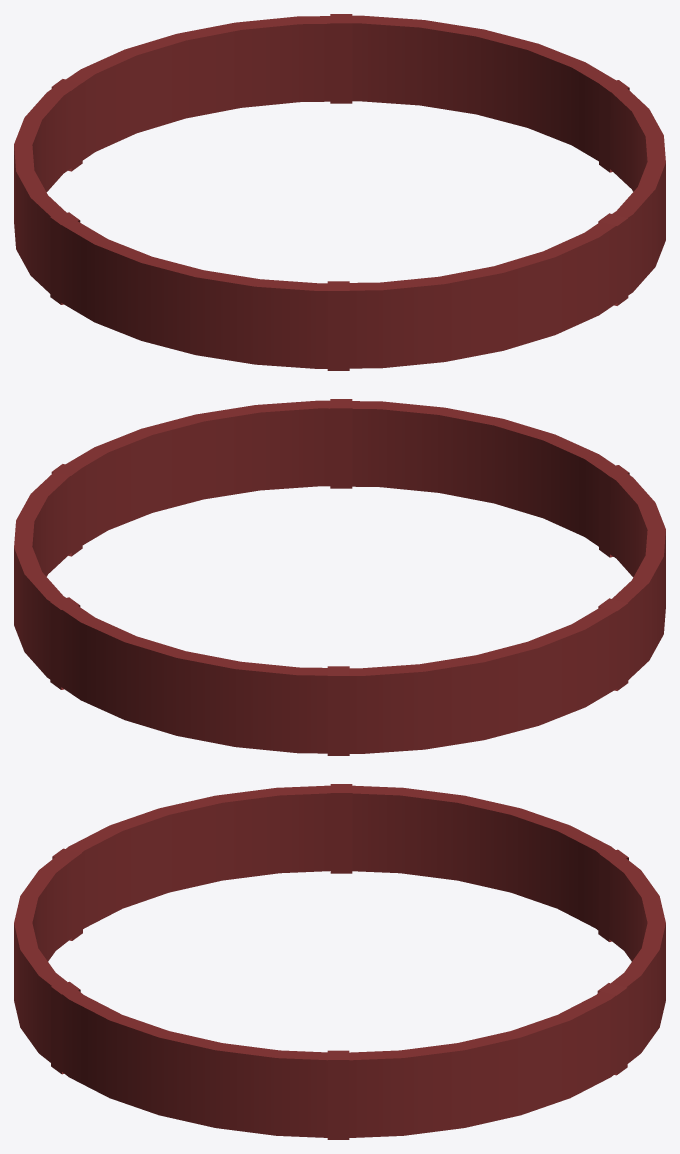
File: SM_WiresPack04.fbx
3 renders of one model, top to bottom at view 1: azimuth 30°, elevation 25°; view 2: azimuth 150°, elevation 25°; view 3: azimuth 270°, elevation 25°, orthographic.
Parts seen in each view (by area): view 1: WiresPack04; view 2: WiresPack04; view 3: WiresPack04.
Boxes of the visible parts, bbox=[...] form: WiresPack04: bbox=[14, 14, 665, 370]; WiresPack04: bbox=[14, 399, 665, 755]; WiresPack04: bbox=[14, 784, 665, 1139].
Size of the model in its own units: 79.93 by 10.81 by 79.77.
